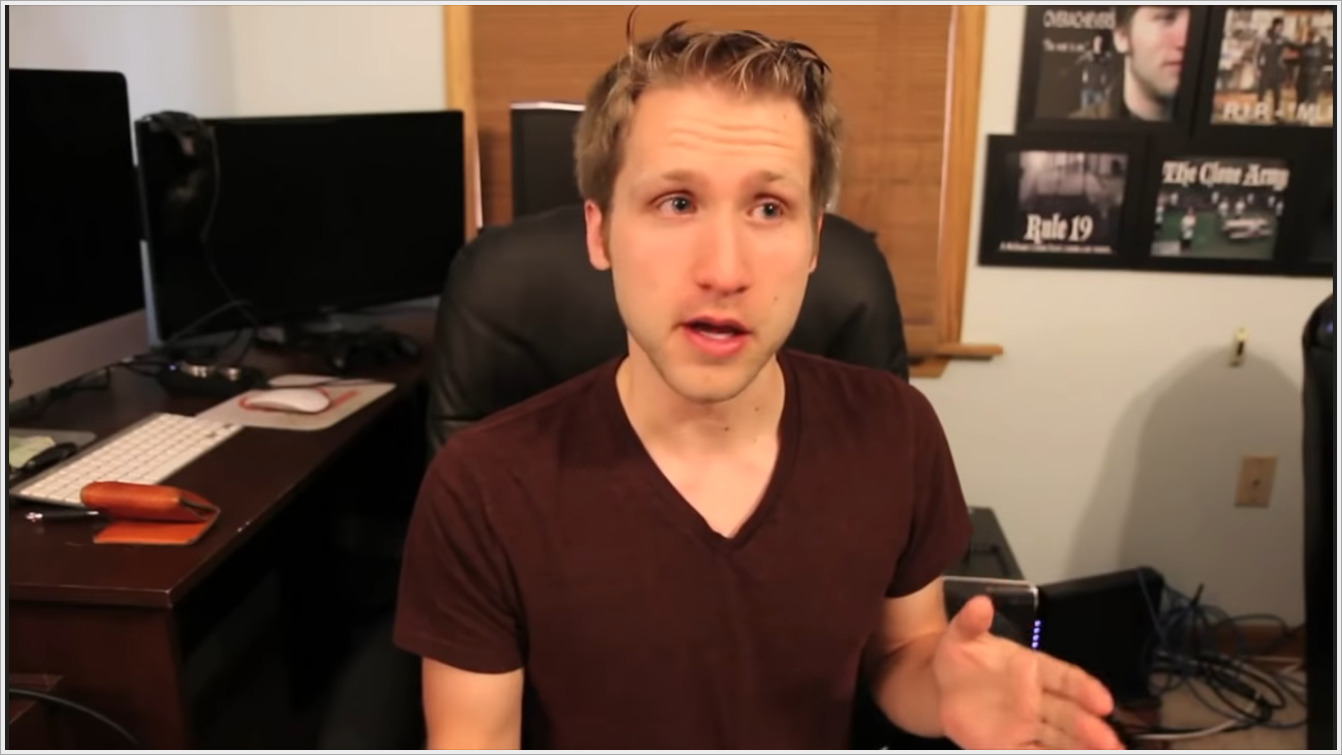hand: (929, 592, 1138, 749)
